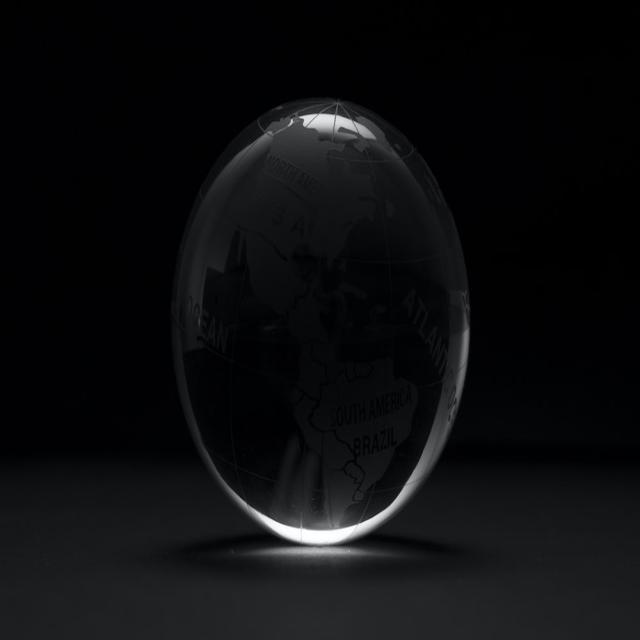hidden camera: (149, 53, 494, 594)
